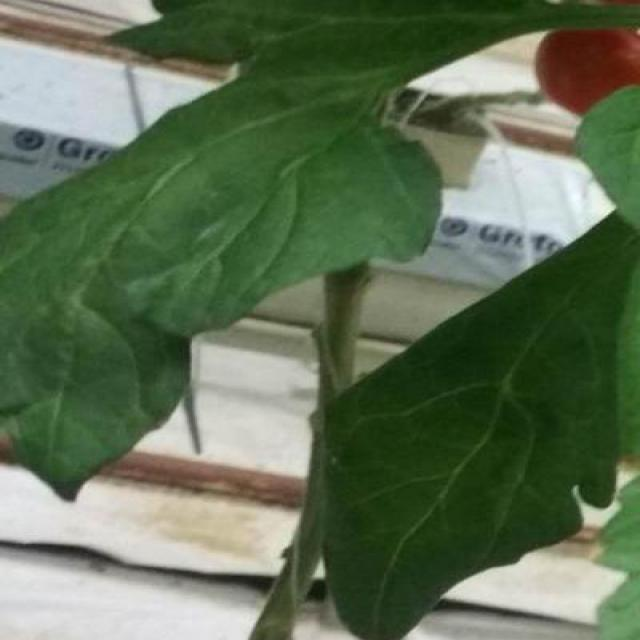tomato: (534, 27, 638, 127)
